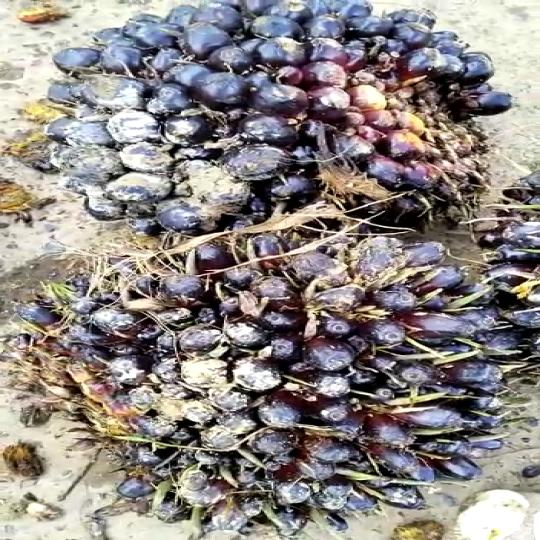mentah: (48, 229, 492, 534), (21, 0, 496, 239)
